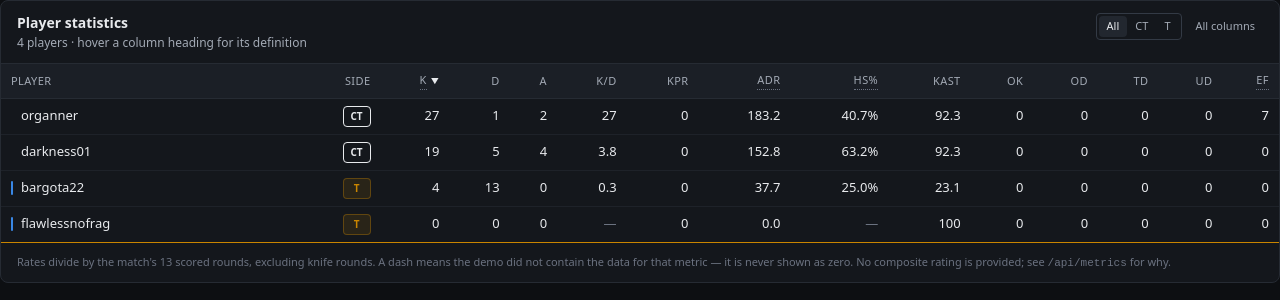
PlayersTab › reveals the extended columns on request
Expected: the text "CLW" is not shown
Click the button "All columns": (1225, 26) [1188,14,1263,38]
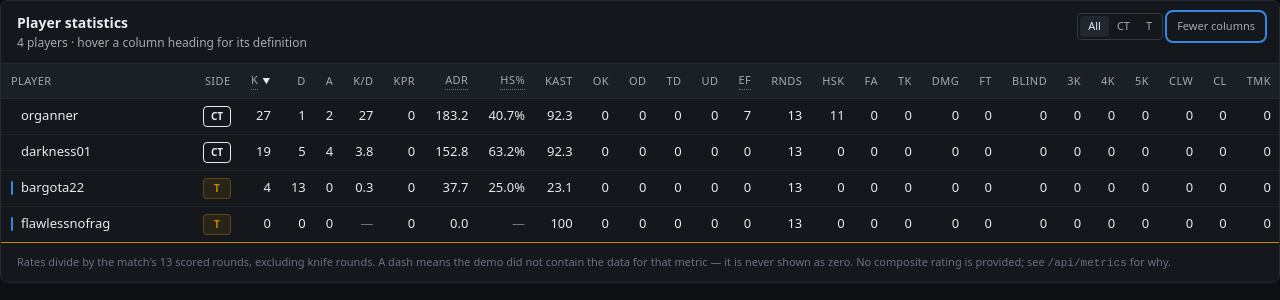
Now the text "CLW" is shown, box [1169,72,1193,89]
